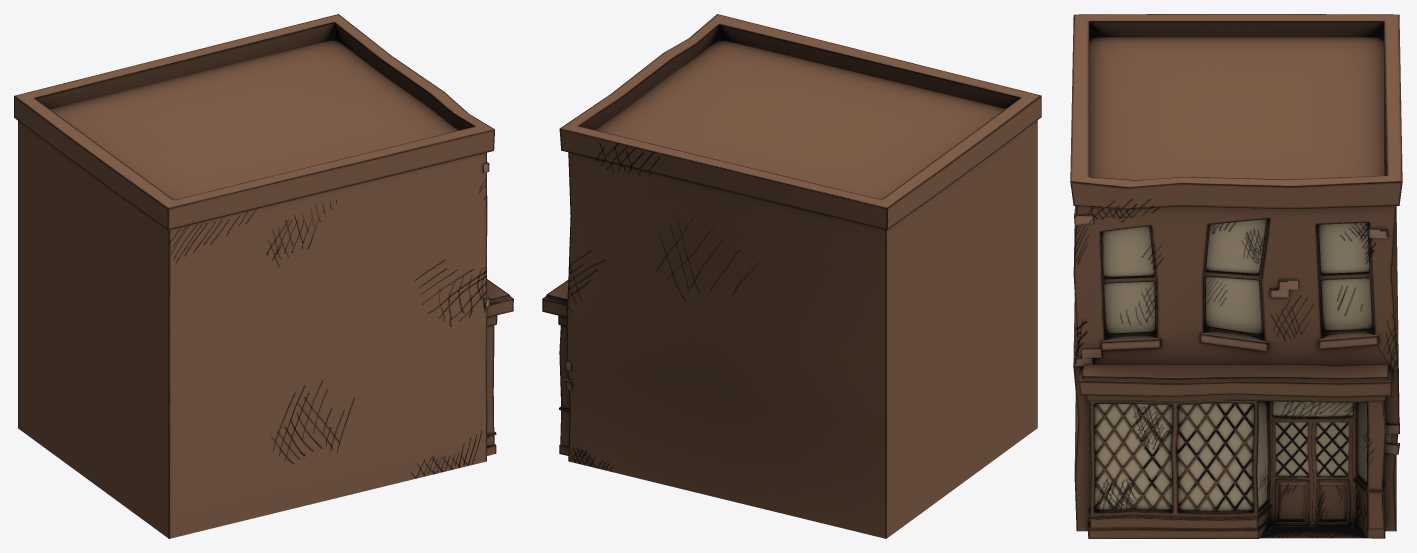
Rendered from BuildingSingle_02.fbx.
The picture shows the model from 3 angles, left to right: view 1: azimuth 30°, elevation 25°; view 2: azimuth 150°, elevation 25°; view 3: azimuth 270°, elevation 25°; orthographic projection. The views are drawn at different scales.
Visible parts, largest first — view 1: Building_02; view 2: Building_02; view 3: Building_02.
Part boxes in pixels (left/top/right/bottom): Building_02: left=14, top=14, right=513, bottom=538; Building_02: left=542, top=14, right=1041, bottom=538; Building_02: left=1070, top=14, right=1402, bottom=538.
Bounding box in the file's own units: 660 × 602 × 514.
